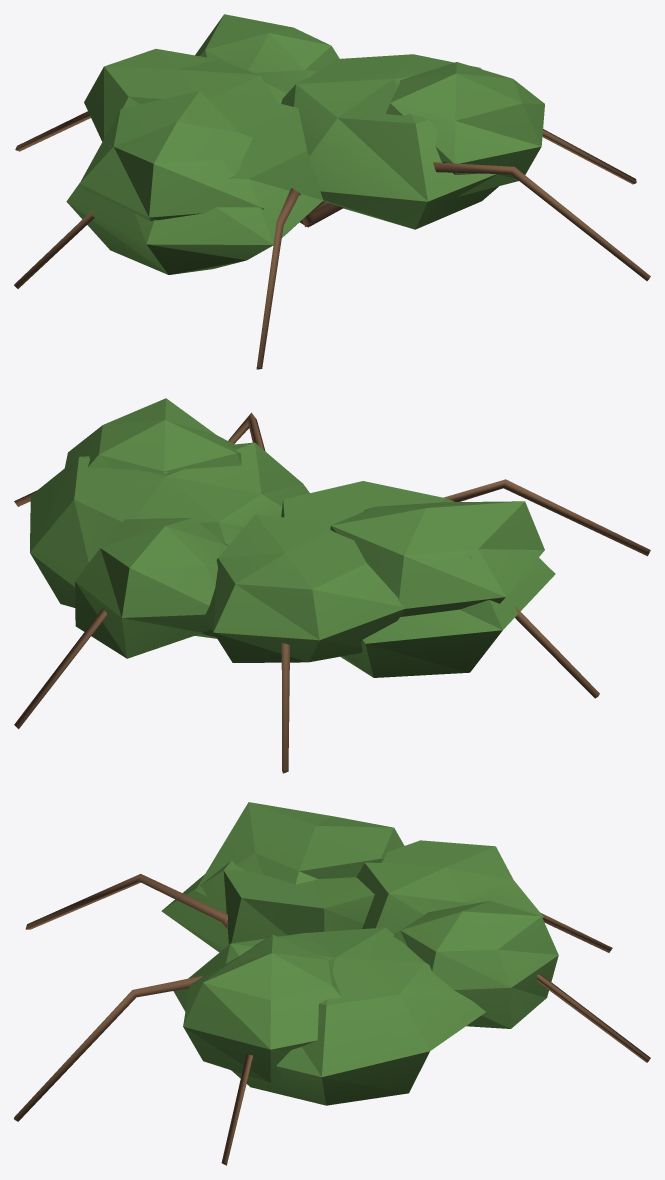
File: bramble_1.glb
3 views of the same model, one above another, from view 1: azimuth 30°, elevation 25°; view 2: azimuth 150°, elevation 25°; view 3: azimuth 270°, elevation 25° (orthographic). The views are drawn at different scales.
Visible parts, largest first — view 1: bramble_1; view 2: bramble_1; view 3: bramble_1.
Boxes of the visible parts, left/top/right/bottom form: bramble_1: left=14, top=14, right=650, bottom=369; bramble_1: left=14, top=398, right=650, bottom=773; bramble_1: left=14, top=802, right=650, bottom=1165.
Bounding box in the file's own units: 2.7 × 0.7211 × 2.53.
